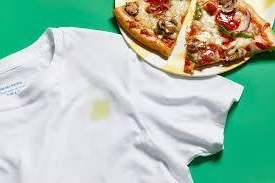oil: (89, 94, 115, 120)
